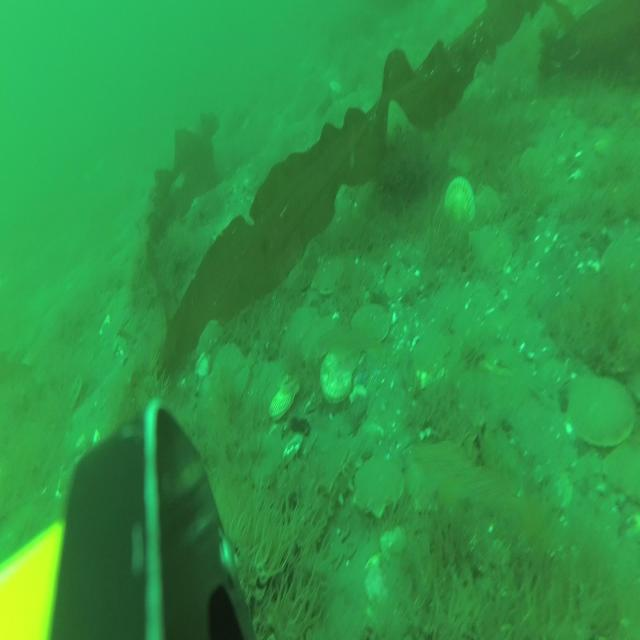holothurian: (322, 447, 363, 529)
scallop: (510, 392, 578, 476), (567, 368, 639, 444), (352, 454, 404, 516), (210, 343, 251, 404), (246, 361, 283, 425), (470, 228, 513, 278), (302, 314, 340, 365), (322, 352, 356, 406), (468, 180, 499, 237), (352, 302, 390, 347), (271, 375, 303, 424), (282, 304, 311, 351), (446, 179, 474, 227), (314, 256, 343, 296), (385, 259, 410, 302), (522, 148, 551, 183)
